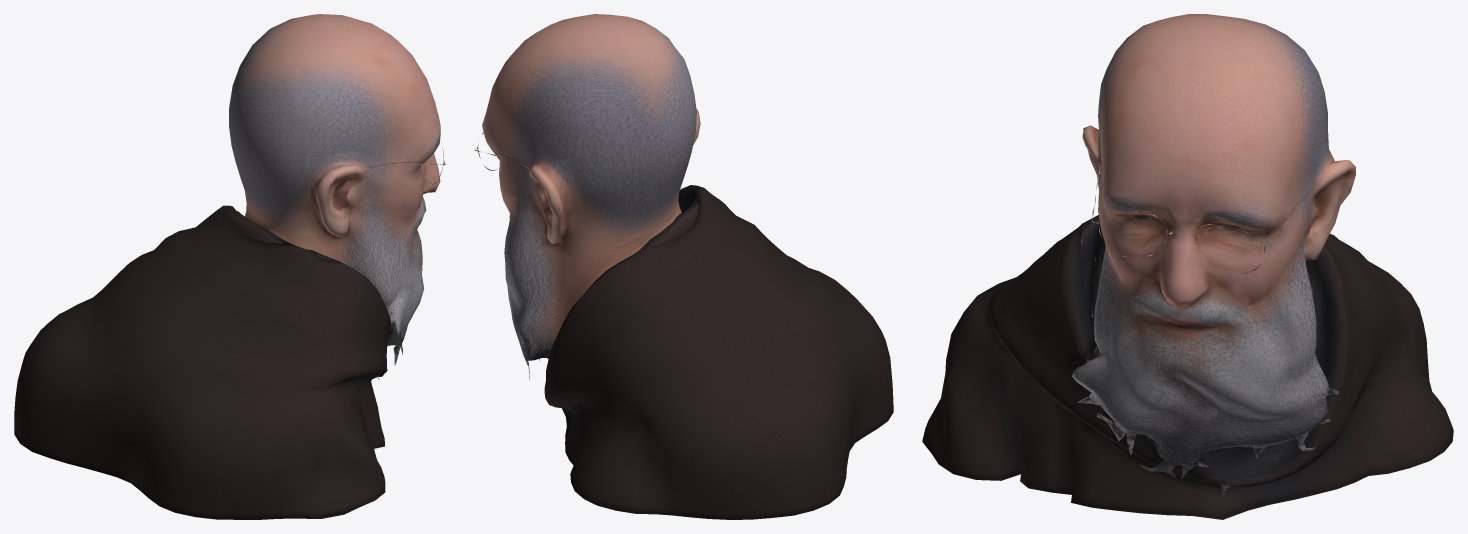
File: solanus-avatar.glb
3 renders of one model, left to right at view 1: azimuth 30°, elevation 25°; view 2: azimuth 150°, elevation 25°; view 3: azimuth 270°, elevation 25°, orthographic. The views are drawn at different scales.
Visible parts, largest first — view 1: tripo_node_79a81aac-b47d-4b8b-b2ef-9e964ddc9dca; view 2: tripo_node_79a81aac-b47d-4b8b-b2ef-9e964ddc9dca; view 3: tripo_node_79a81aac-b47d-4b8b-b2ef-9e964ddc9dca.
Boxes of the visible parts, x1,y1,x2,y2 form: tripo_node_79a81aac-b47d-4b8b-b2ef-9e964ddc9dca: (14,14,445,519); tripo_node_79a81aac-b47d-4b8b-b2ef-9e964ddc9dca: (474,14,893,519); tripo_node_79a81aac-b47d-4b8b-b2ef-9e964ddc9dca: (922,14,1453,519).
Size of the model in its own units: 0.998 by 0.9824 by 0.998.
1 material, 1 textured.
